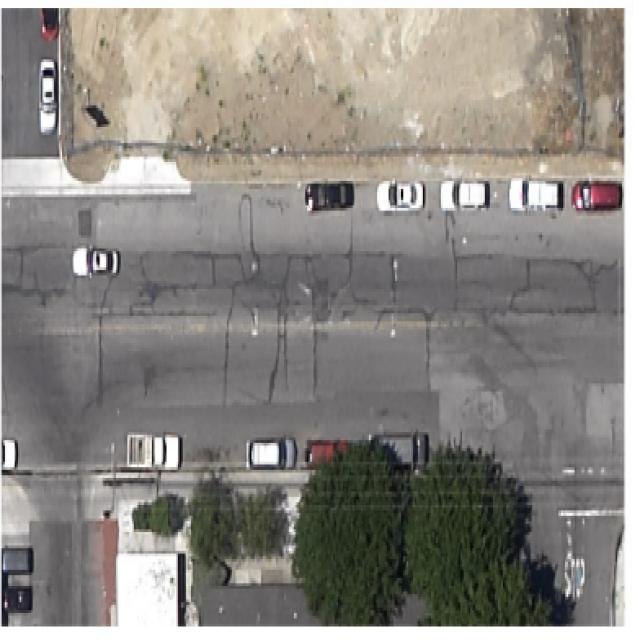crack: (0, 270, 72, 320), (504, 256, 559, 317), (444, 217, 491, 277), (175, 250, 239, 293), (234, 191, 264, 256), (563, 260, 598, 315), (311, 273, 338, 332), (268, 292, 282, 388), (224, 289, 238, 362), (96, 316, 104, 398), (421, 311, 429, 389), (311, 323, 320, 389), (142, 281, 158, 302), (348, 211, 353, 275), (392, 257, 397, 281)
road: (3, 201, 616, 513), (16, 485, 120, 624), (1, 8, 65, 198), (533, 506, 621, 623)
